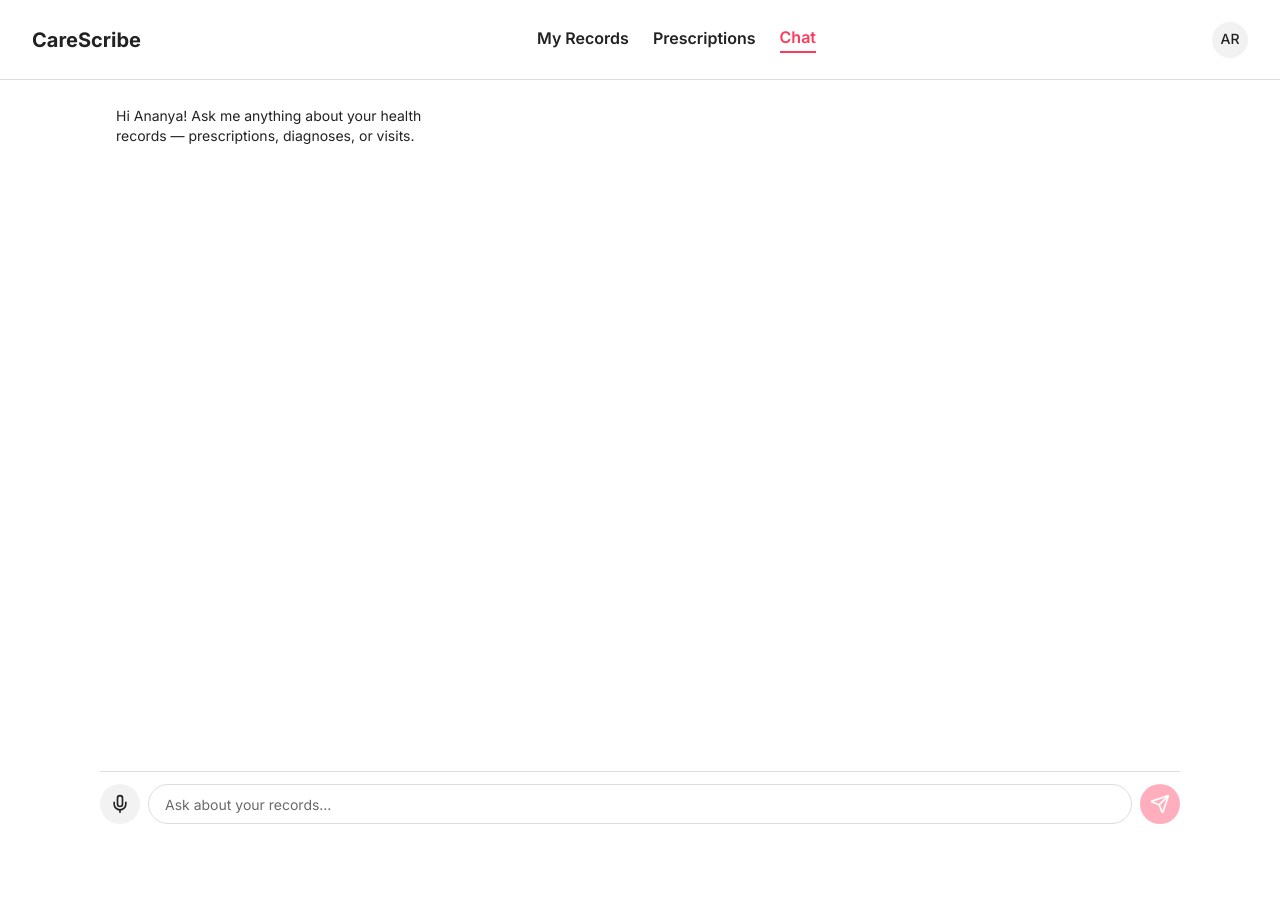
Test case: chat assistant › shows an inline error when the assistant fails
(page scrolled)
Type "hello" into the field named "Message" at (640,804), box x1=148 y1=784 x2=1132 y2=824
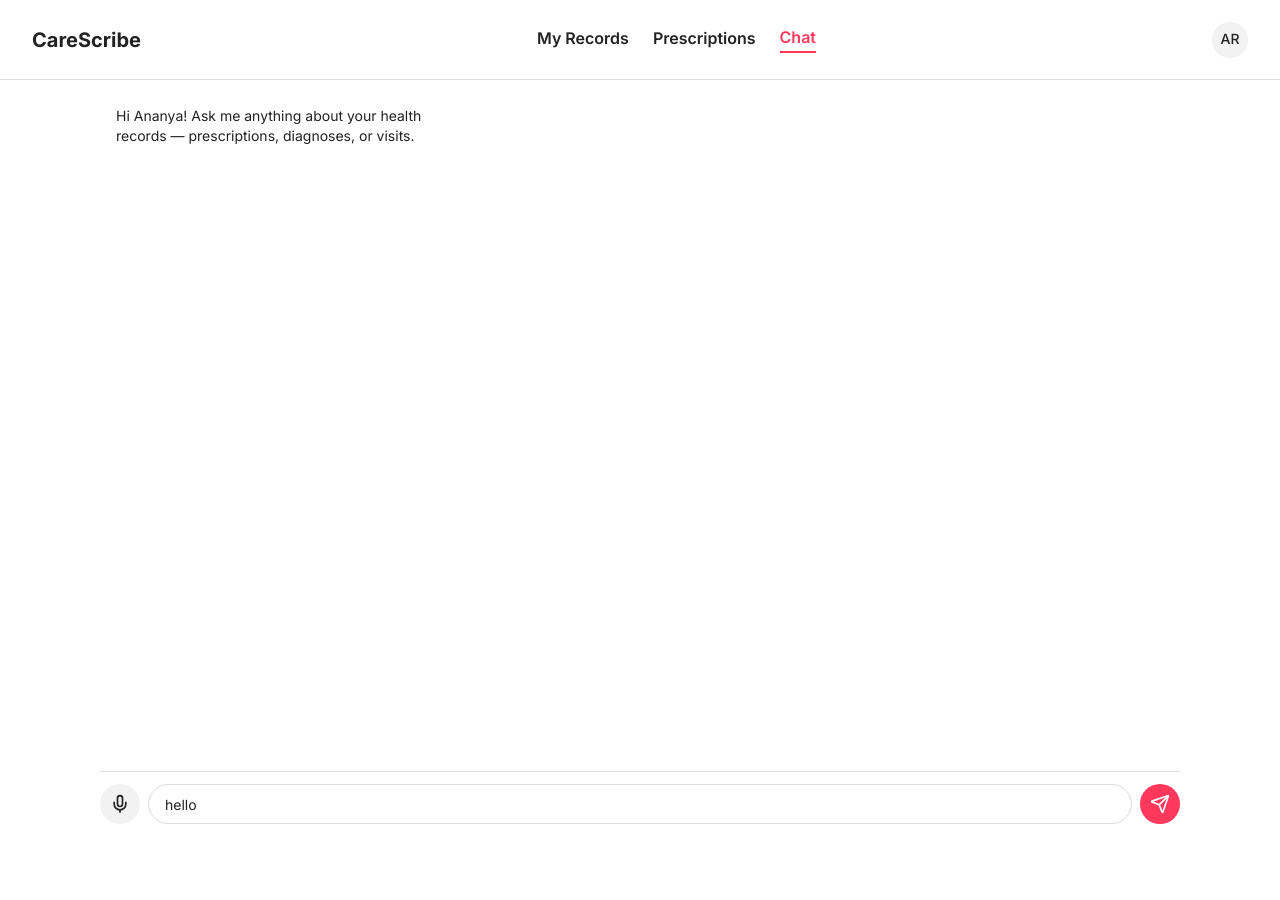
Click the button named "Send message" at (1160,804), box x1=1140 y1=784 x2=1180 y2=824
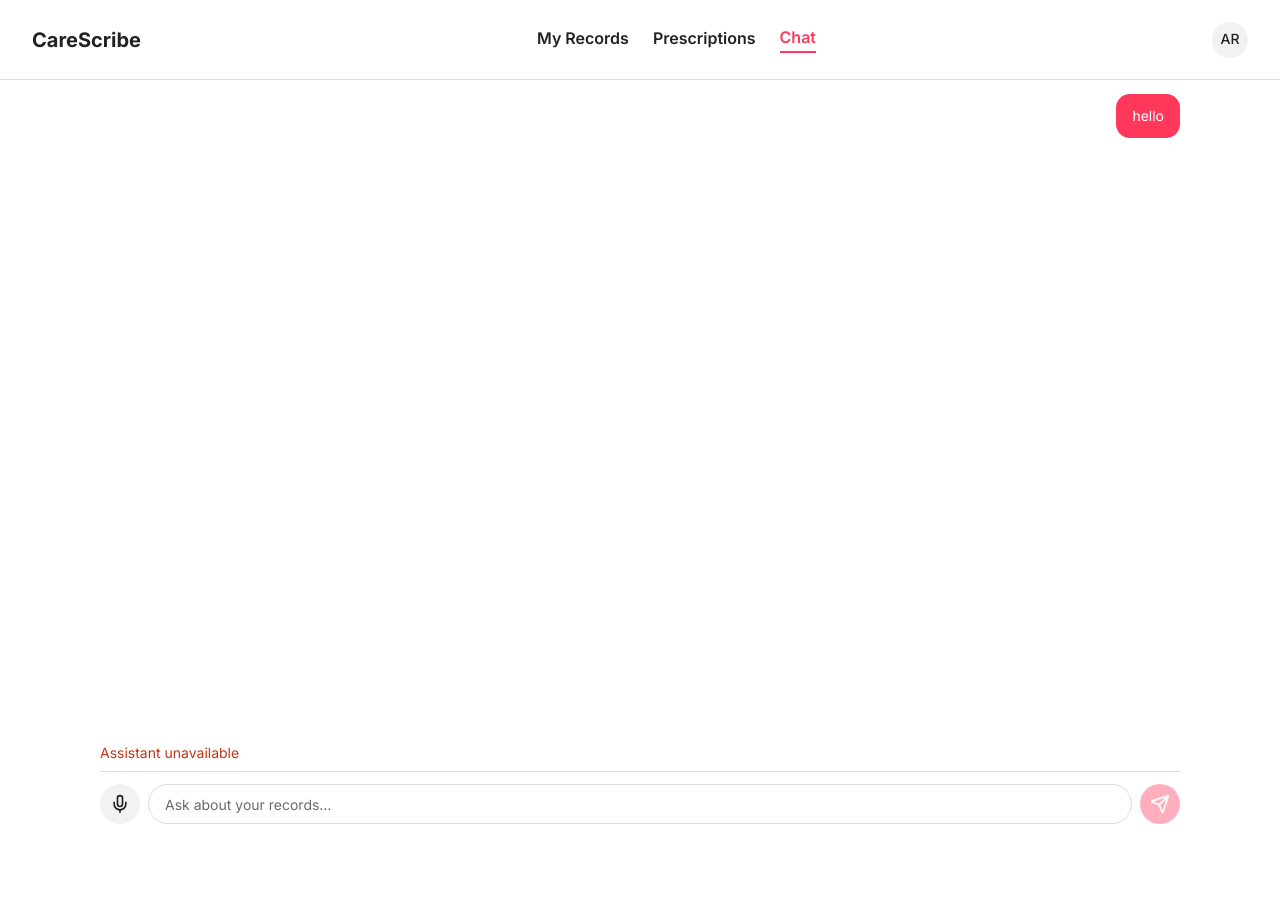
Expected: the text "Assistant unavailable" is shown, x1=100 y1=744 x2=239 y2=761
